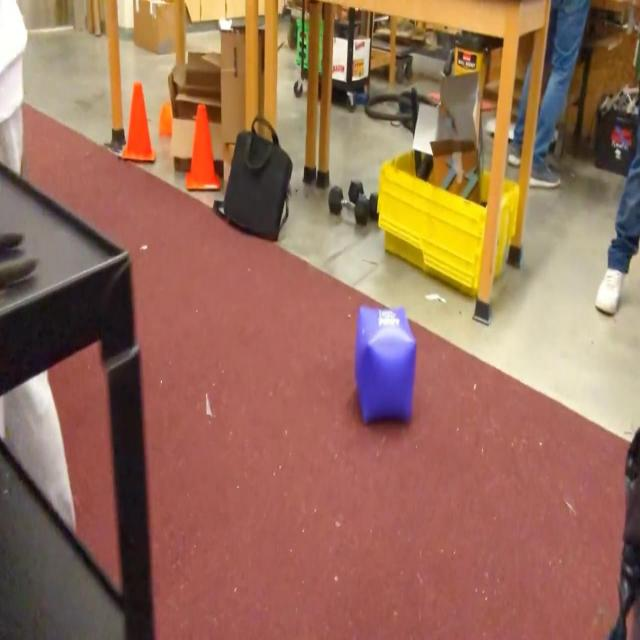frc_cube: (354, 302, 418, 428)
